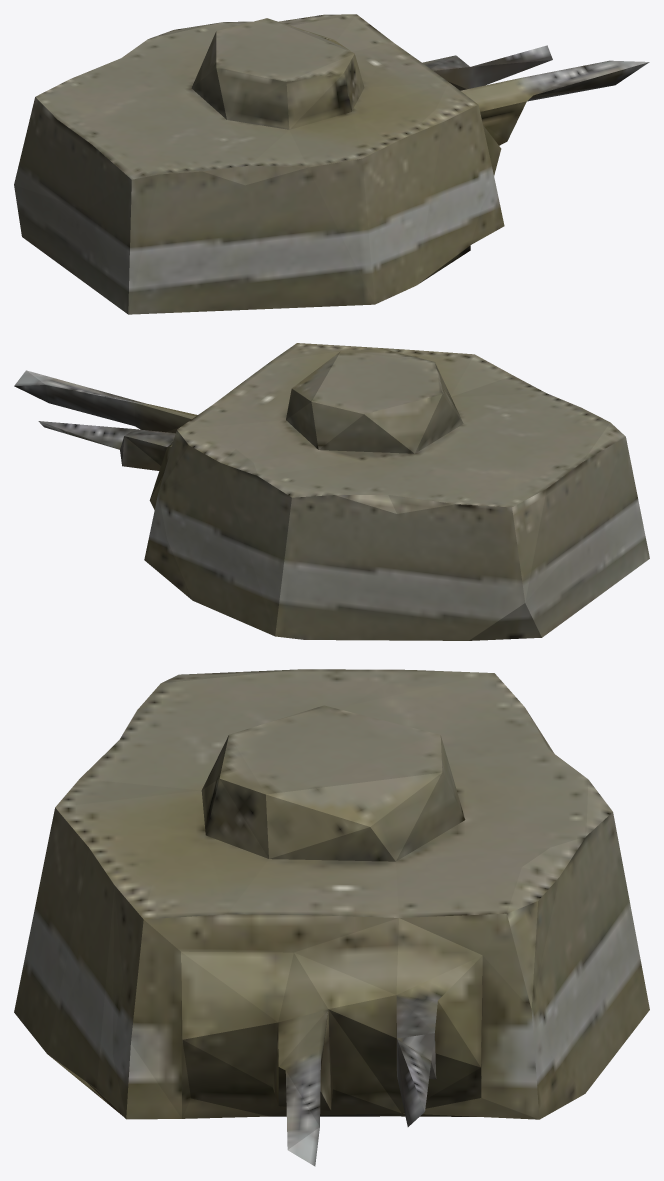
Rendered from turret.obj.
3 views of the same model, one above another, from view 1: azimuth 30°, elevation 25°; view 2: azimuth 150°, elevation 25°; view 3: azimuth 270°, elevation 25° (orthographic). The views are drawn at different scales.
Bounding box in the file's own units: 0.5144 × 0.155 × 0.3279.
Materials: 1 (1 with a texture image).
